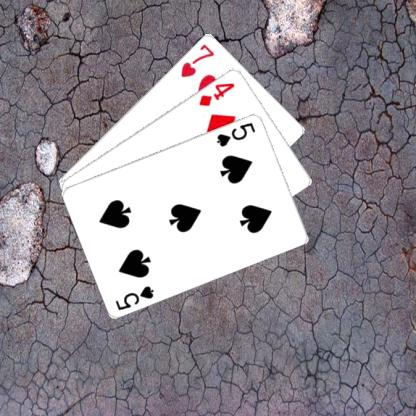4D: (196, 80, 236, 108)
5S: (214, 119, 257, 148), (113, 283, 155, 311)
7H: (178, 41, 215, 78)
